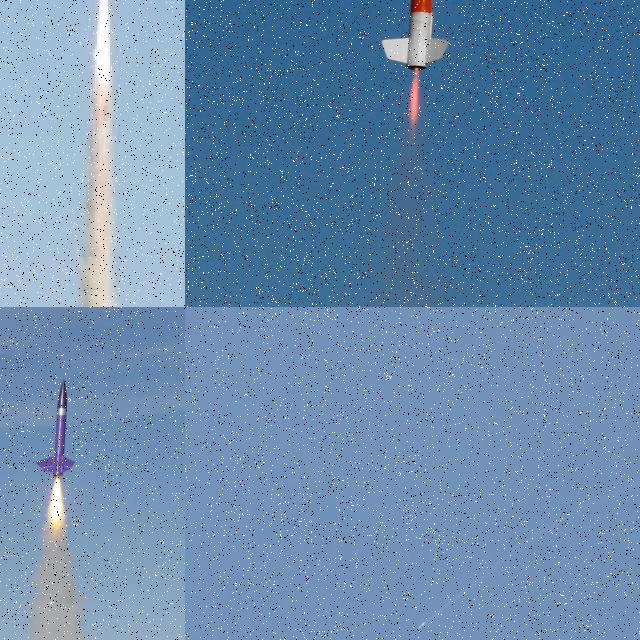Rocket: (379, 0, 452, 71), (35, 378, 77, 478), (418, 622, 425, 629)
